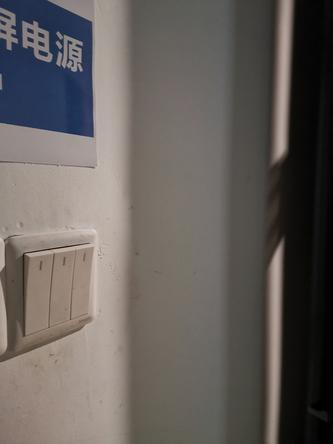switch: (18, 245, 54, 338), (48, 244, 76, 329), (69, 242, 95, 323)
